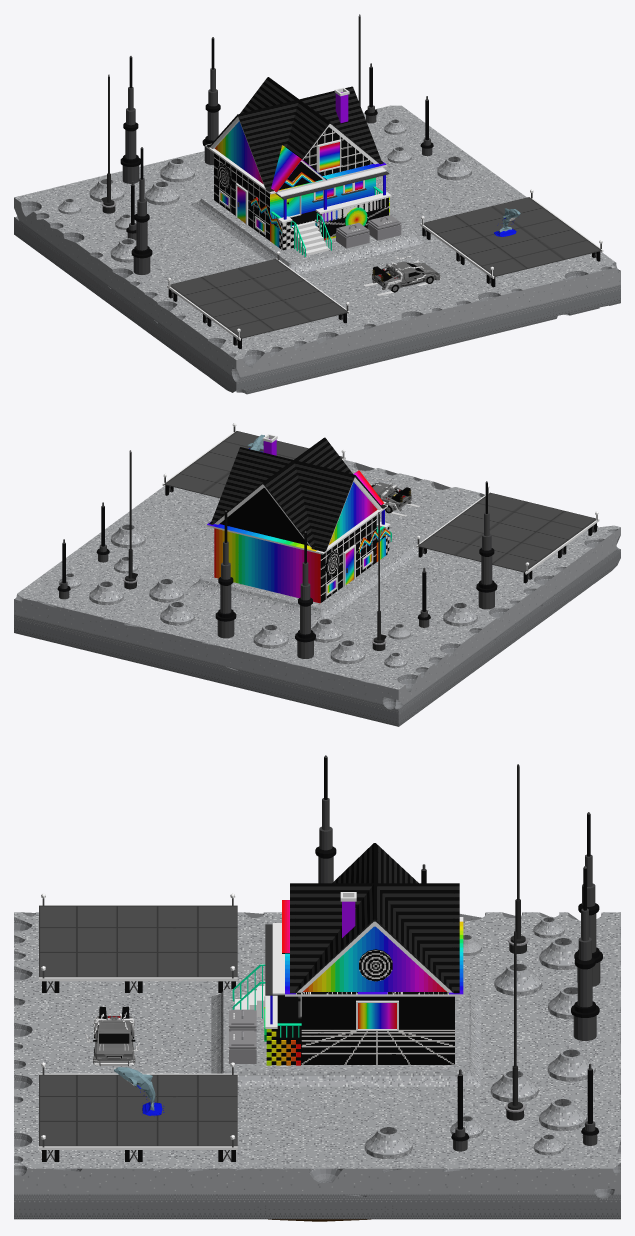
3 views of the same model, one above another, from view 1: azimuth 30°, elevation 25°; view 2: azimuth 150°, elevation 25°; view 3: azimuth 270°, elevation 25° (orthographic). The views are drawn at different scales.
Parts seen in each view (by area): view 1: Cube.027, Cube.1320, Cube.025, Cube.026, Cube.028, VEHICLES_DELOREAN, Cylinder.021, Cylinder.020, Cylinder.017, Cube.029, Cube.030, Cylinder.027 (+3 smaller); view 2: Cube.027, Cube.1320, Cube.025, Cube.028, Cube.026, Cylinder.017, Cylinder.021, Cylinder.020, VEHICLES_DELOREAN, Cylinder.027, Cylinder.029, Cylinder.030 (+7 smaller); view 3: Cube.027, Cube.1320, Cube.025, Cube.026, Cube.028, Cylinder.017, VEHICLES_DELOREAN, Cylinder.020, Cylinder.021, Cylinder.033, Cylinder.031, Cylinder.029 (+10 smaller).
Boxes of the visible parts, left/top/right/bottom form: Cube.027: left=14, top=105, right=620, bottom=394; Cube.1320: left=205, top=77, right=391, bottom=256; Cube.025: left=167, top=251, right=349, bottom=348; Cube.026: left=420, top=189, right=603, bottom=287; Cube.028: left=191, top=195, right=424, bottom=273; VEHICLES_DELOREAN: left=359, top=256, right=440, bottom=295; Cylinder.021: left=131, top=147, right=152, bottom=274; Cylinder.020: left=120, top=56, right=140, bottom=183; Cylinder.017: left=202, top=37, right=220, bottom=165; Cube.029: left=336, top=222, right=369, bottom=248; Cube.030: left=367, top=215, right=401, bottom=240; Cylinder.027: left=160, top=158, right=194, bottom=182; Cube.027: left=14, top=460, right=620, bottom=726; Cube.1320: left=206, top=434, right=391, bottom=603; Cube.025: left=416, top=485, right=599, bottom=583; Cube.028: left=189, top=537, right=418, bottom=620; Cube.026: left=162, top=423, right=345, bottom=498; Cylinder.017: left=215, top=510, right=236, bottom=638; Cylinder.021: left=476, top=481, right=497, bottom=609; Cylinder.020: left=295, top=531, right=315, bottom=658; VEHICLES_DELOREAN: left=370, top=477, right=424, bottom=517; Cylinder.027: left=253, top=624, right=288, bottom=648; Cylinder.029: left=160, top=601, right=194, bottom=625; Cylinder.030: left=149, top=578, right=183, bottom=602; Cube.027: left=14, top=912, right=620, bottom=1219; Cube.1320: left=232, top=843, right=463, bottom=1065; Cube.025: left=39, top=893, right=237, bottom=992; Cube.026: left=39, top=1062, right=237, bottom=1161; Cube.028: left=211, top=989, right=481, bottom=1086; Cylinder.017: left=571, top=866, right=599, bottom=1040; VEHICLES_DELOREAN: left=85, top=1006, right=139, bottom=1066; Cylinder.020: left=574, top=812, right=602, bottom=986; Cylinder.021: left=315, top=755, right=336, bottom=883; Cylinder.033: left=364, top=1126, right=412, bottom=1158; Cylinder.031: left=539, top=1098, right=586, bottom=1130; Cylinder.029: left=547, top=1048, right=595, bottom=1081.
Bounding box in the file's own units: 4000 × 1865 × 4000.
33 materials, 6 textured.
